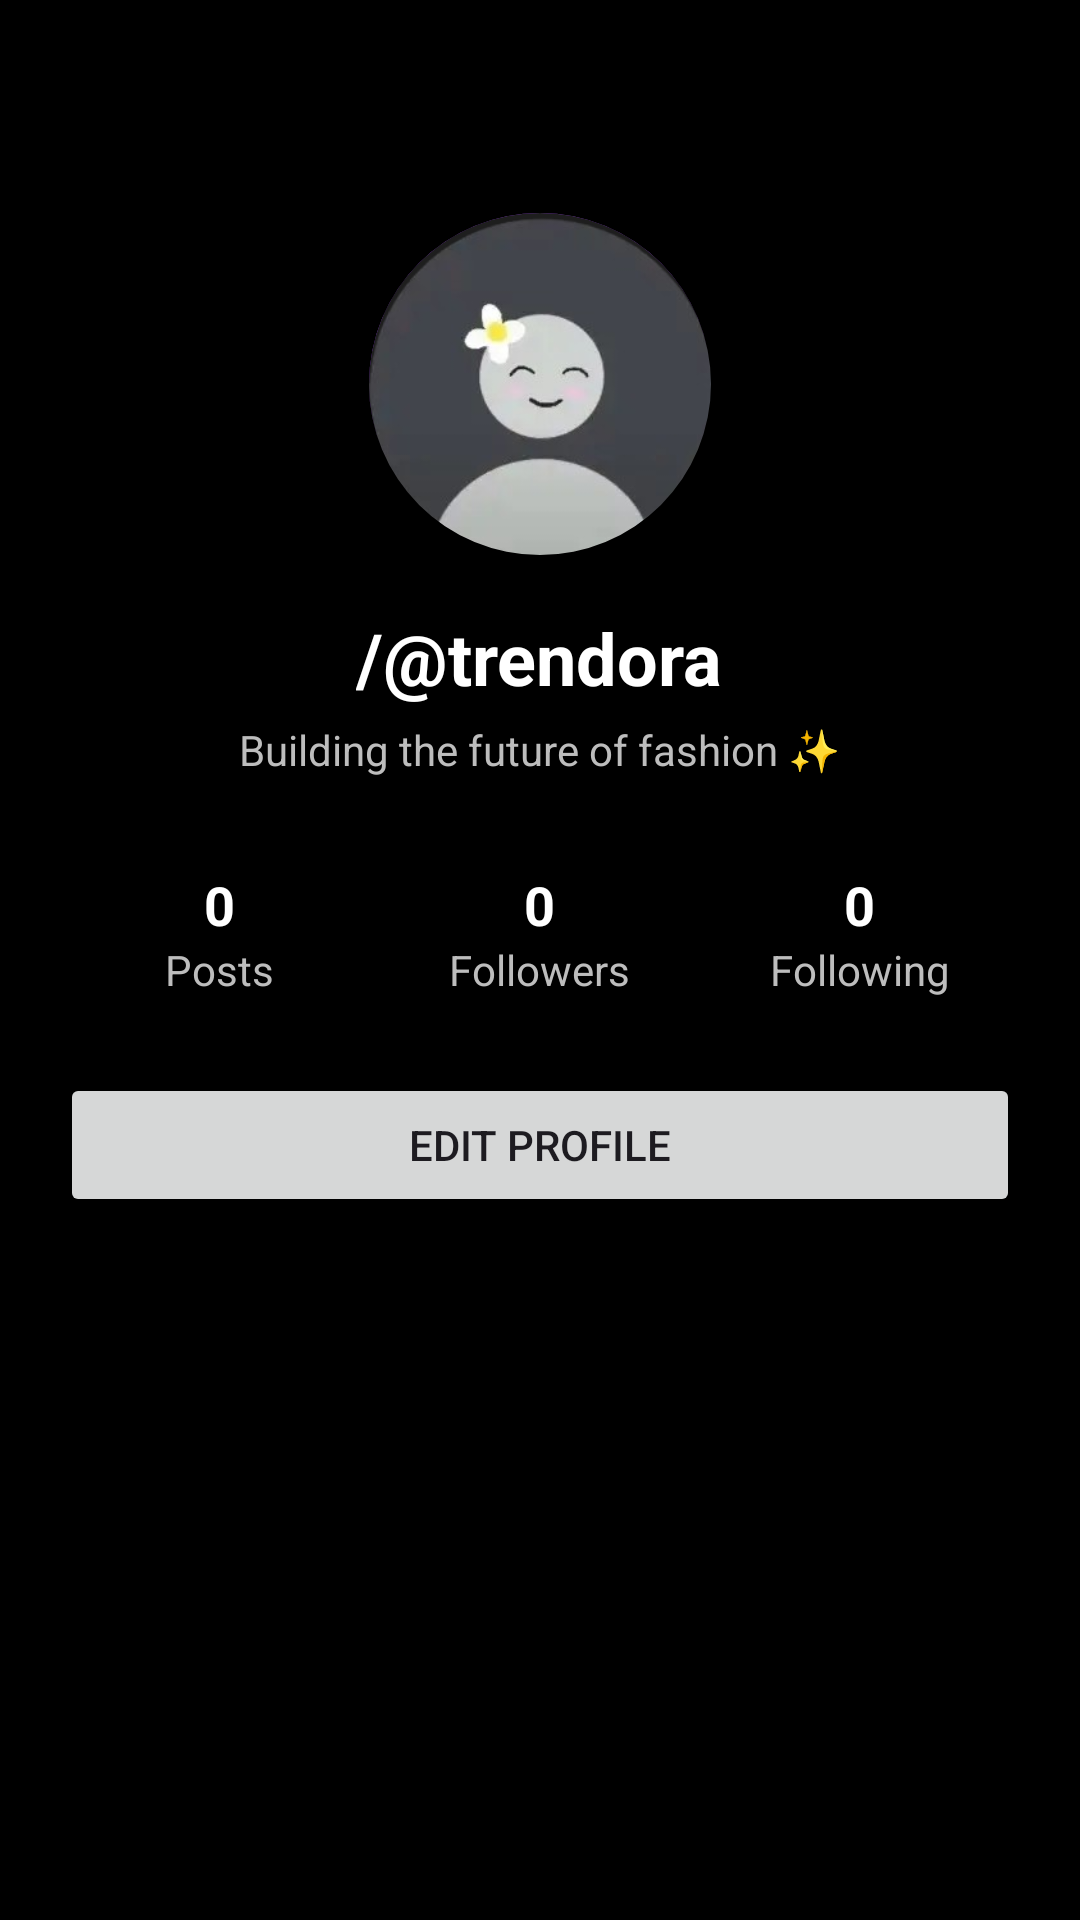

Named icons in this screenshot (1080 × 1920) and their bounding boxes, bbox=(x1, y1, x2, y2):
profile demo: bbox=(369, 213, 711, 555)
